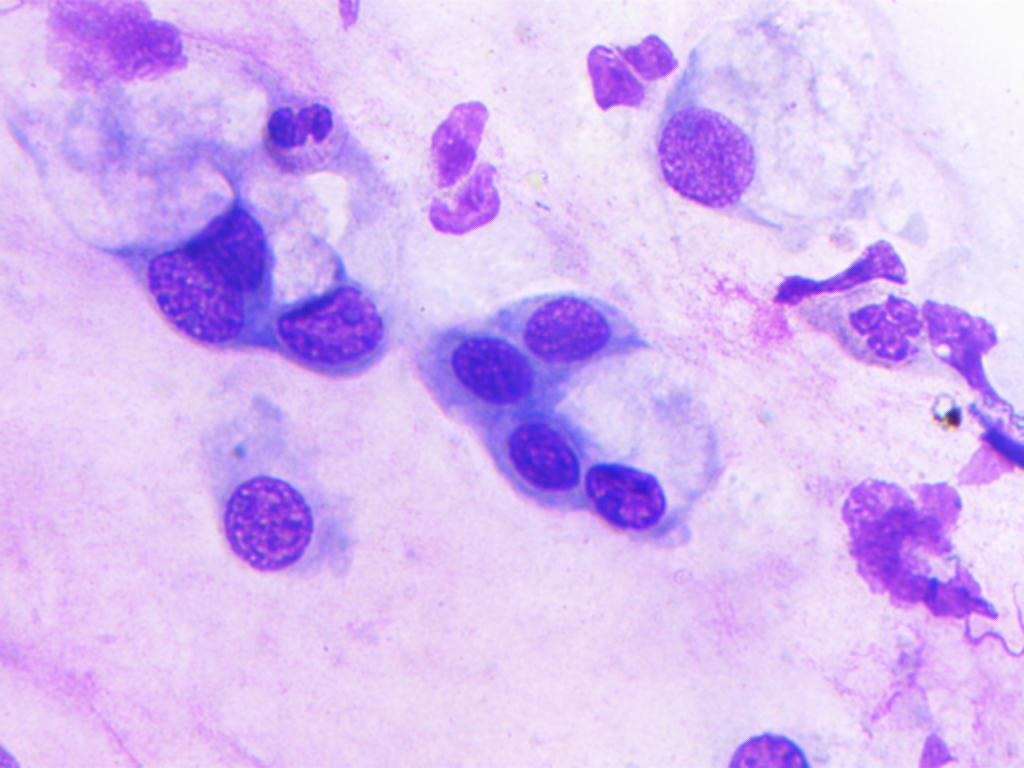artifact: (928, 387, 961, 431)
epithelial: (215, 473, 315, 572), (661, 109, 752, 207), (148, 251, 241, 346), (520, 280, 617, 367), (430, 327, 527, 414), (484, 418, 581, 505), (582, 444, 679, 531), (716, 717, 820, 768)
goblet_cell: (82, 152, 279, 294), (265, 196, 389, 373)
neutrophil: (409, 67, 529, 243), (249, 53, 353, 177), (571, 22, 674, 110), (847, 295, 924, 359)
